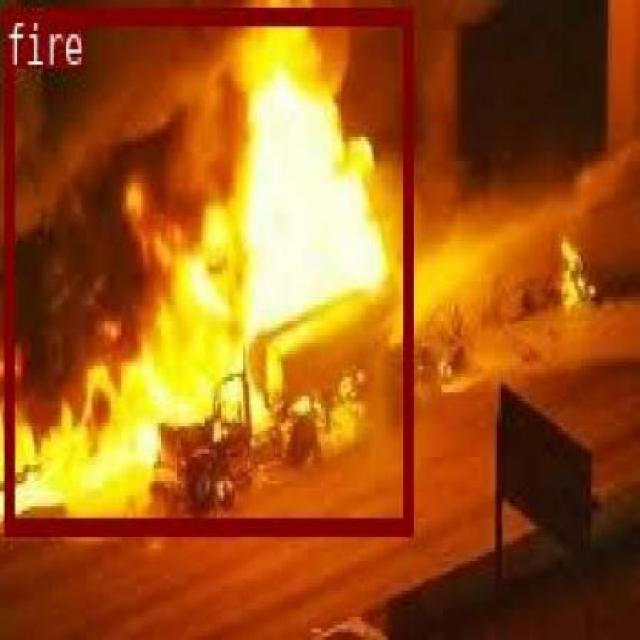fire: (2, 7, 410, 533)
